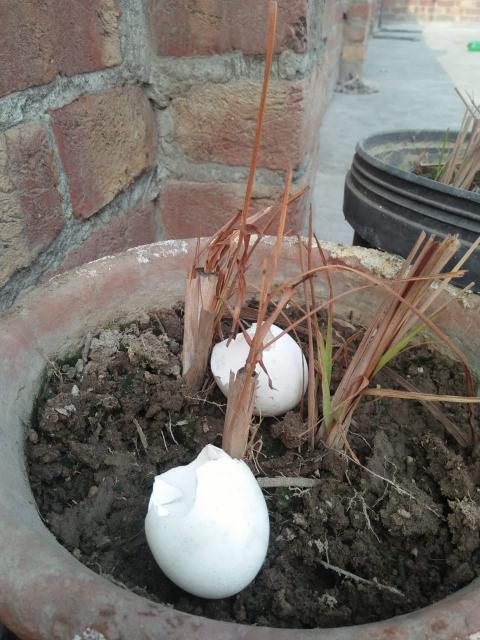Roto: (144, 443, 270, 600), (209, 320, 308, 418)
